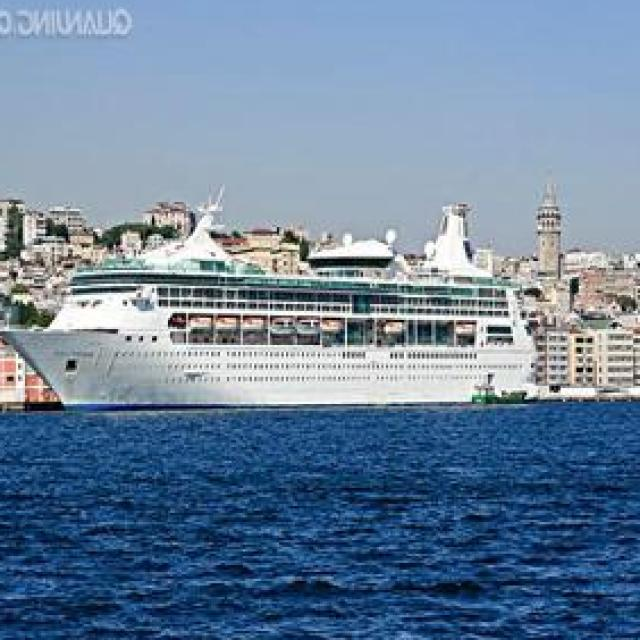passenger ship: (2, 200, 535, 411)
